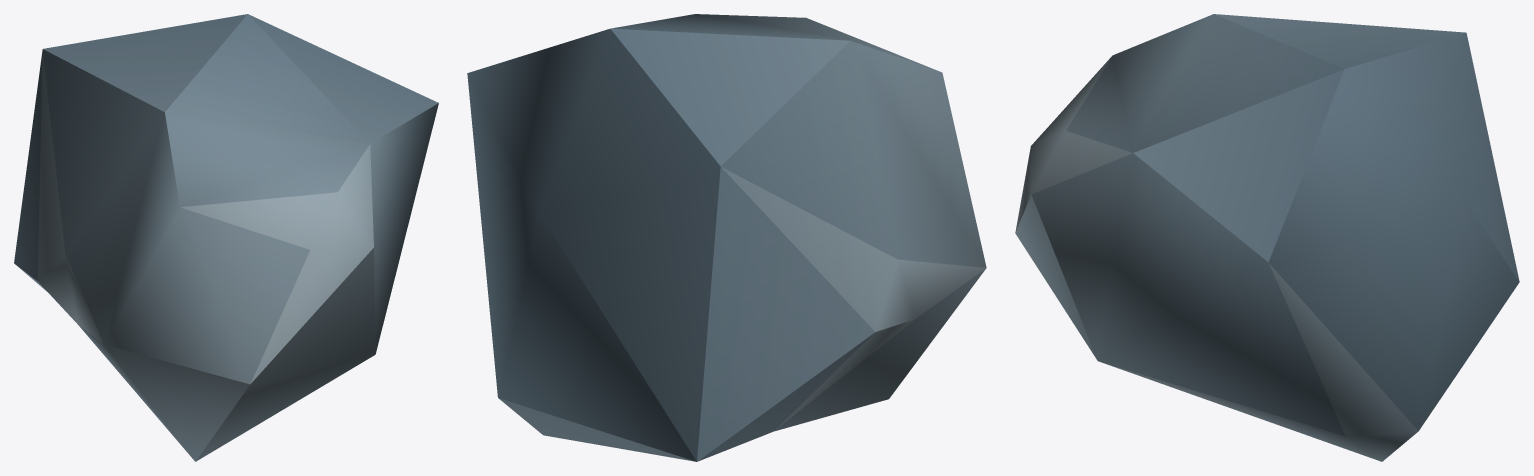
The model's file is Iron_Nugget_Small.glb.
3 views of the same model, side by side, from view 1: azimuth 30°, elevation 25°; view 2: azimuth 150°, elevation 25°; view 3: azimuth 270°, elevation 25° (orthographic). The views are drawn at different scales.
Visible parts, largest first — view 1: Iron_Nugget_Small; view 2: Iron_Nugget_Small; view 3: Iron_Nugget_Small.
Boxes of the visible parts, <box> form: Iron_Nugget_Small: <box>14,14,438,461</box>; Iron_Nugget_Small: <box>467,14,986,461</box>; Iron_Nugget_Small: <box>1015,14,1519,461</box>.
Size of the model in its own units: 0.1411 by 0.1204 by 0.1461.
Materials: 1 (1 with a texture image).
